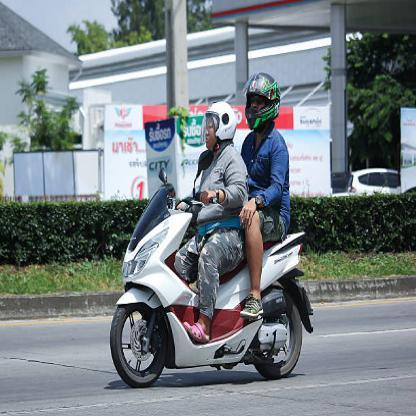Motorcycle: (106, 178, 310, 393)
